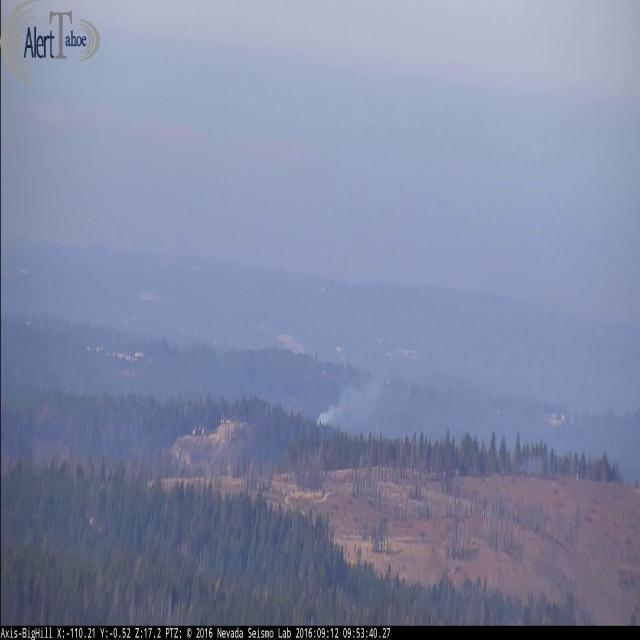smoke: (311, 339, 448, 435)
